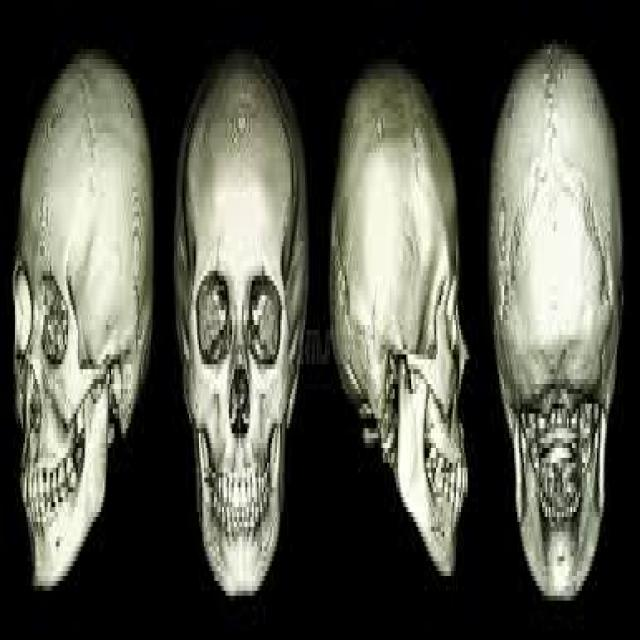skull: (8, 47, 158, 620), (170, 22, 309, 628)
